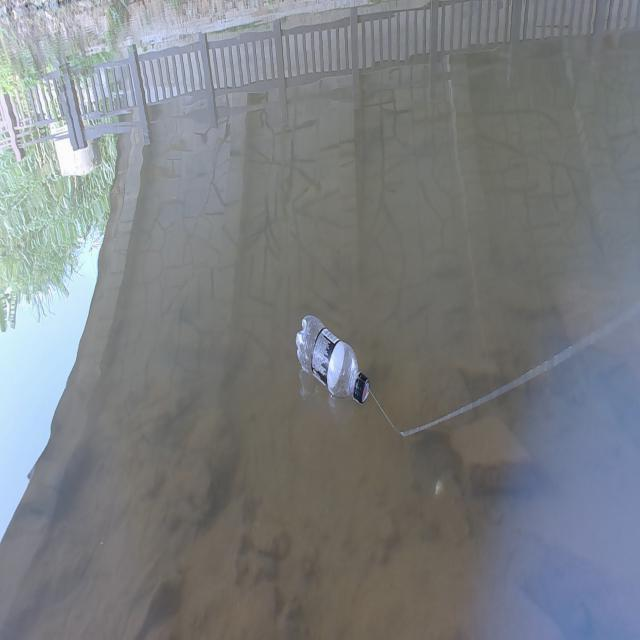bottle: (281, 288, 379, 418)
